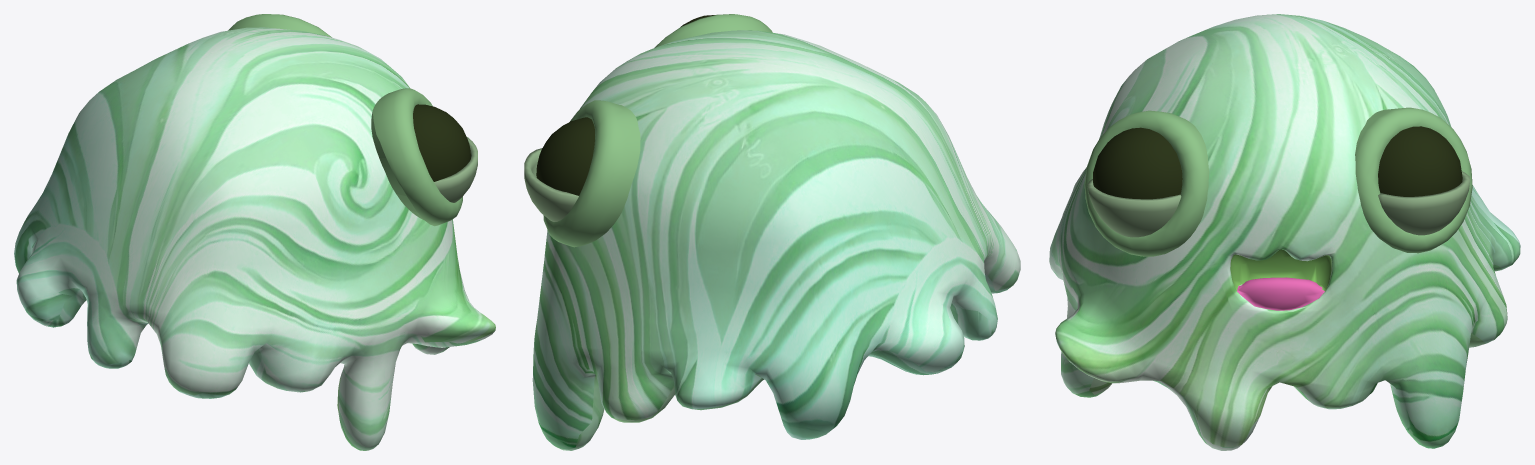
File: Frosch_texturiert_Mund_auf_verlaufen.fbx
The picture shows the model from 3 angles, left to right: view 1: azimuth 30°, elevation 25°; view 2: azimuth 150°, elevation 25°; view 3: azimuth 270°, elevation 25°; orthographic projection. The views are drawn at different scales.
Visible parts, largest first — view 1: Frog; view 2: Frog; view 3: Frog.
Boxes of the visible parts, bbox=[...] form: Frog: bbox=[14, 14, 495, 450]; Frog: bbox=[524, 14, 1020, 450]; Frog: bbox=[1049, 14, 1520, 450].
Size of the model in its own units: 2581 by 2137 by 2555.
Materials: 6 (1 with a texture image).
